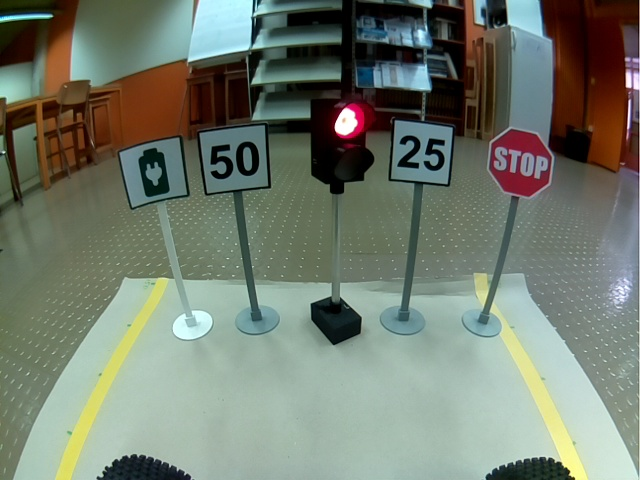battery: (118, 135, 190, 210)
speed25: (388, 118, 455, 187)
speed50: (196, 122, 271, 196)
stop: (487, 126, 555, 199)
trafficLightRed: (310, 97, 375, 184)
